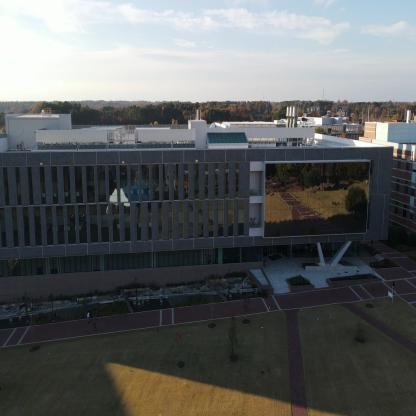Fitts- Woolard: (4, 104, 411, 326)
